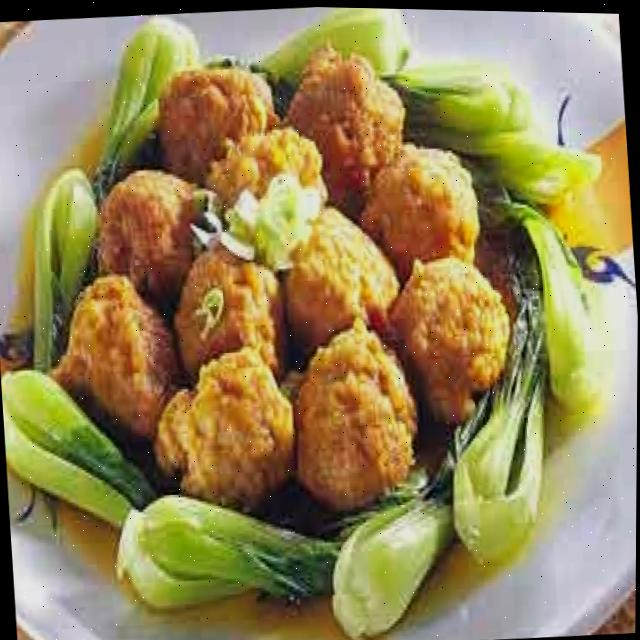猪肉菜式: (0, 0, 623, 637)
